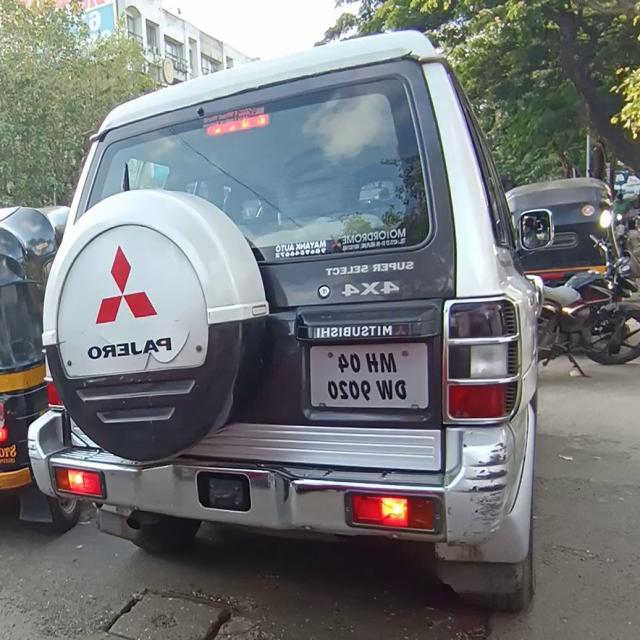license_plate: (305, 336, 429, 418)
